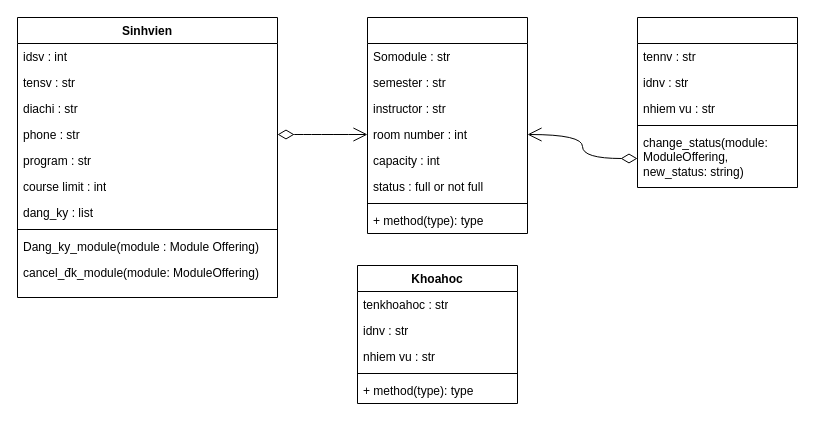
The diagram is 815 pixels wide and 424 high, and some of its shapes have lost their labels. The shapes that lost their labels are listed below. From the top down, each one's box as (x1, y1, x2, y2) in pixels, then its label:
(636, 16, 798, 188): Nhanvien
(366, 16, 528, 234): Module Offering
